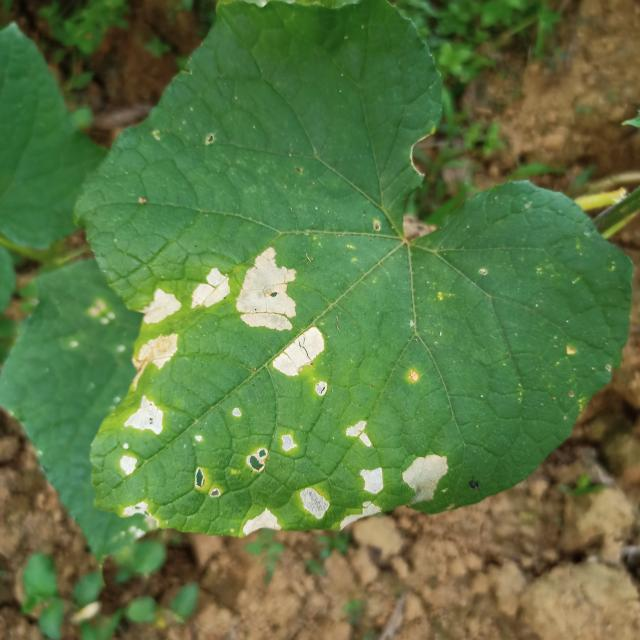disease_cucumber: (237, 246, 329, 377), (118, 395, 164, 477), (137, 287, 179, 372), (403, 452, 446, 511), (338, 465, 380, 524), (245, 436, 298, 471), (190, 268, 230, 309), (237, 506, 282, 534), (341, 418, 378, 450), (294, 485, 328, 519)
